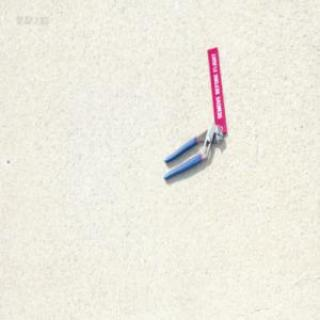LuggageTagtrack_idkeyframe: (202, 46, 222, 133)
Pliertrack_idkeyframe: (158, 123, 218, 180)
